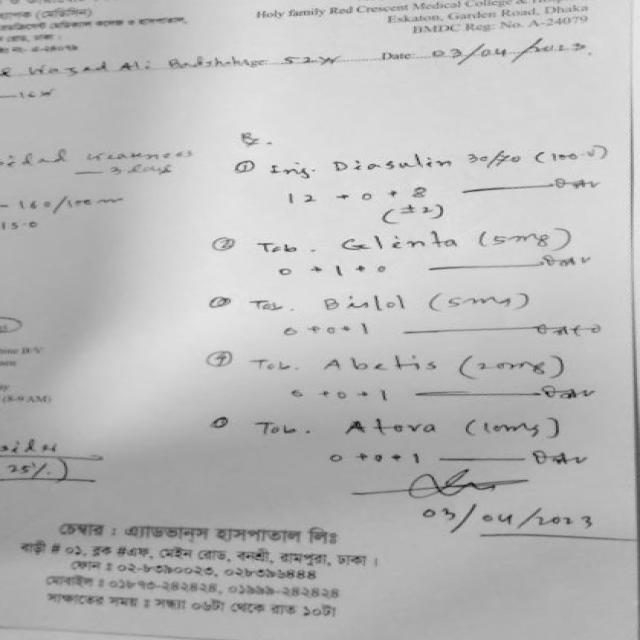medicine: (318, 150, 462, 178), (331, 229, 463, 257), (321, 351, 443, 378), (338, 414, 441, 440), (316, 290, 412, 313)
